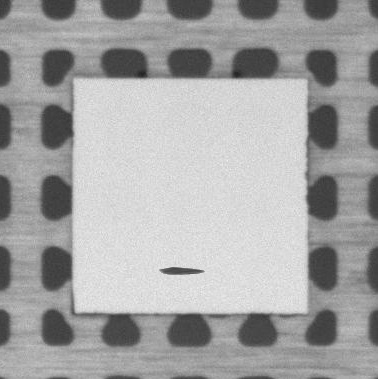DIE_INK: (156, 266, 206, 277)
